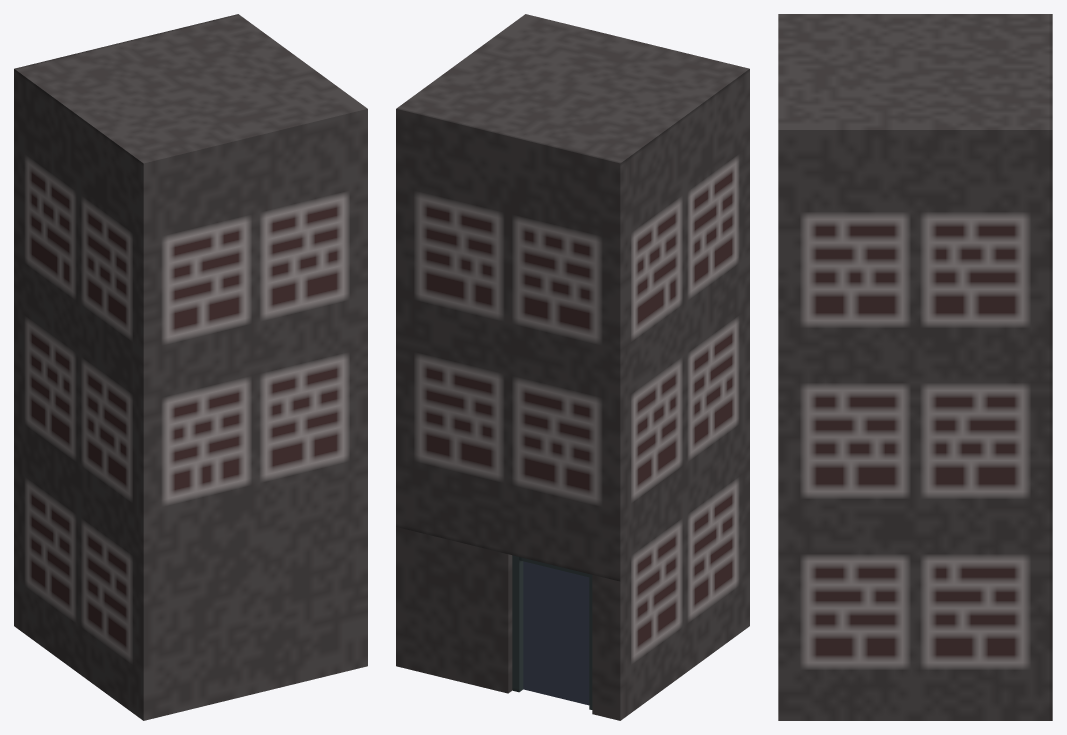
The model's file is b_pusto_4.dae.
3 renders of one model, left to right at view 1: azimuth 30°, elevation 25°; view 2: azimuth 150°, elevation 25°; view 3: azimuth 270°, elevation 25°, orthographic. The views are drawn at different scales.
Parts seen in each view (by area): view 1: Content; view 2: Content; view 3: Content.
Part boxes in pixels (left/top/right/bottom): Content: left=14, top=14, right=367, bottom=720; Content: left=396, top=14, right=749, bottom=720; Content: left=778, top=14, right=1052, bottom=720.
Size of the model in its own units: 32 by 76 by 32.
Materials: 1 (1 with a texture image).
